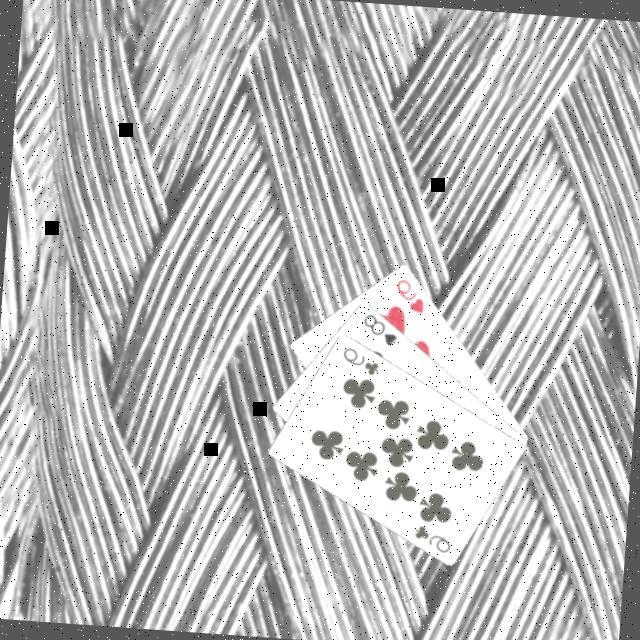8S: (359, 311, 403, 350)
9C: (410, 522, 456, 558), (338, 345, 383, 380)
9H: (392, 276, 431, 318)
